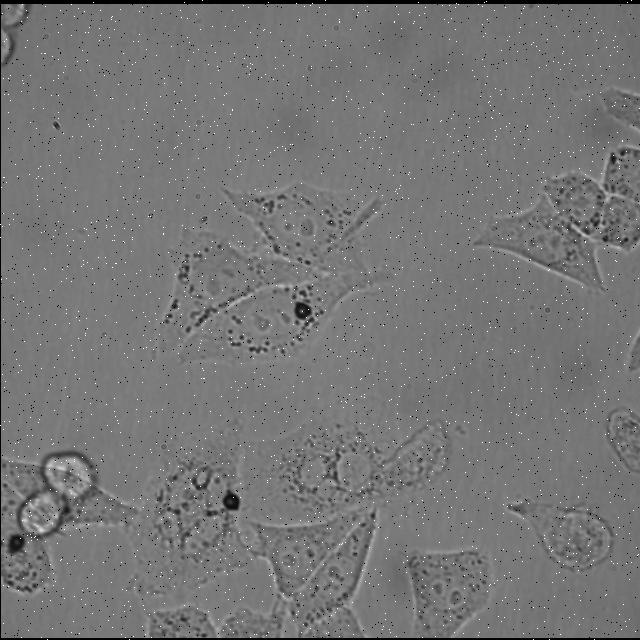microbeads: (291, 298, 311, 320)
